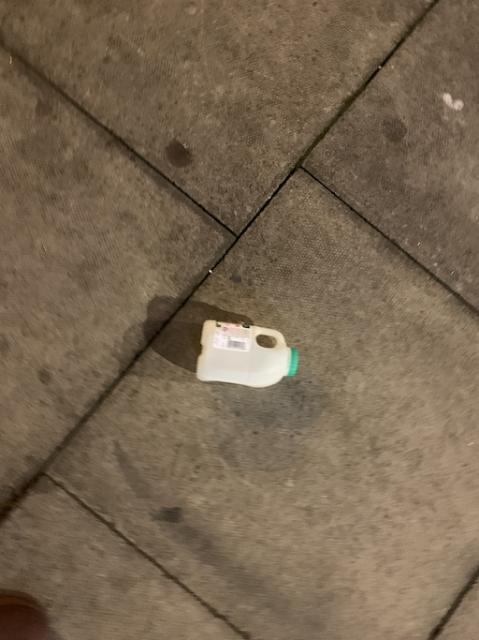plastic: (196, 319, 297, 385)
